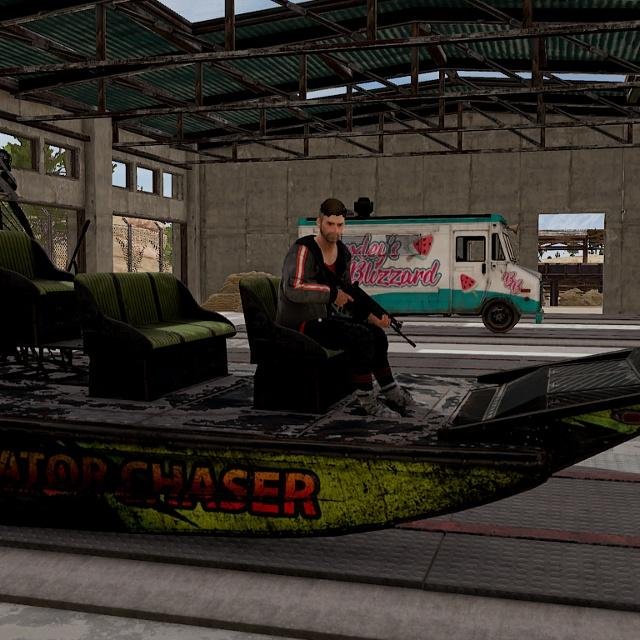head: (315, 194, 349, 244)
people: (277, 194, 416, 422)
